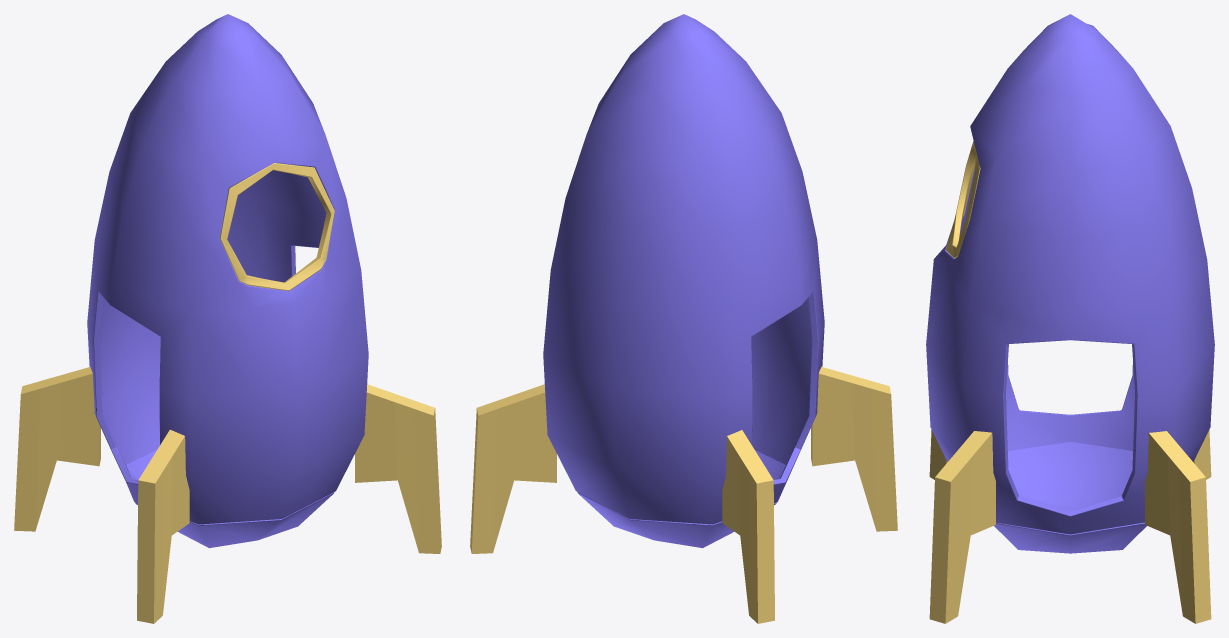
The model's file is obj_rocket.gltf.
3 renders of one model, left to right at view 1: azimuth 30°, elevation 25°; view 2: azimuth 150°, elevation 25°; view 3: azimuth 270°, elevation 25°, orthographic.
Parts seen in each view (by area): view 1: Cube.001; view 2: Cube.001; view 3: Cube.001.
Boxes of the visible parts, box(x1,y1,x2,y2) form: Cube.001: box(14, 14, 441, 623); Cube.001: box(470, 14, 897, 623); Cube.001: box(926, 14, 1214, 623).
Size of the model in its own units: 2.69 by 4.42 by 2.17.
